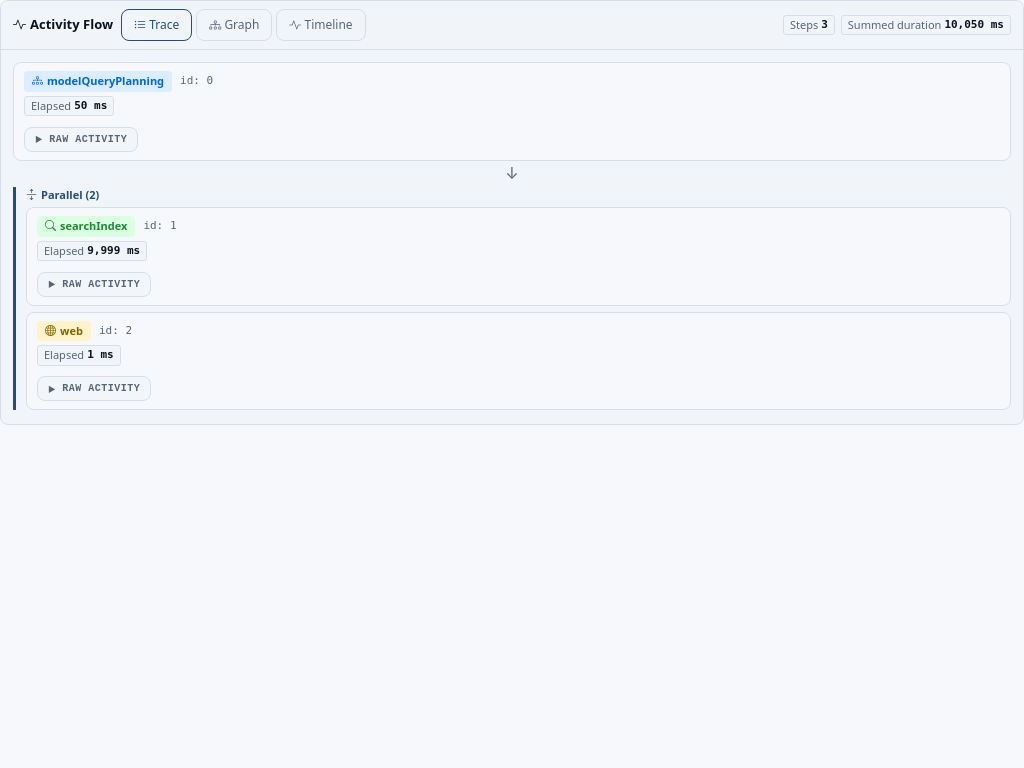
Scenario: AgenticActivityTrace › places Timeline after Trace and Graph and preserves proportional timing and recorded row order
The width and height of the screenshot is (1024, 768).
Click the button "Timeline". click: coordinates (321, 25)
box: [276,9,366,41]
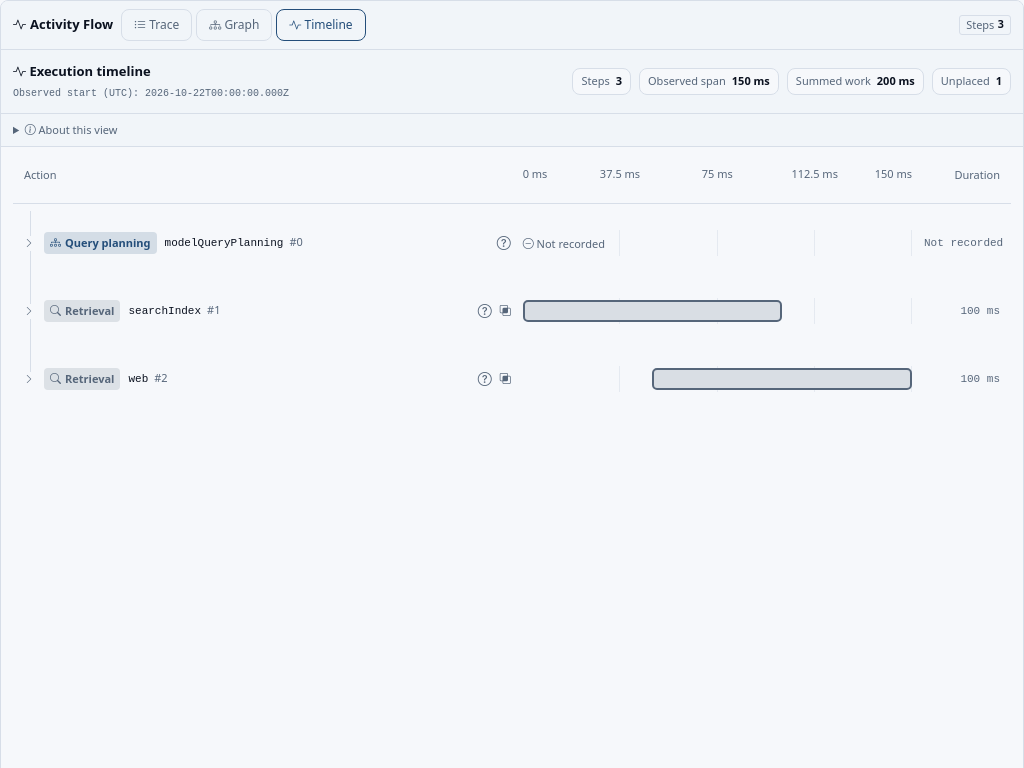
Click the button named "web #2 · startedAt:". click: coordinates (782, 379)
box: [652,368,912,390]
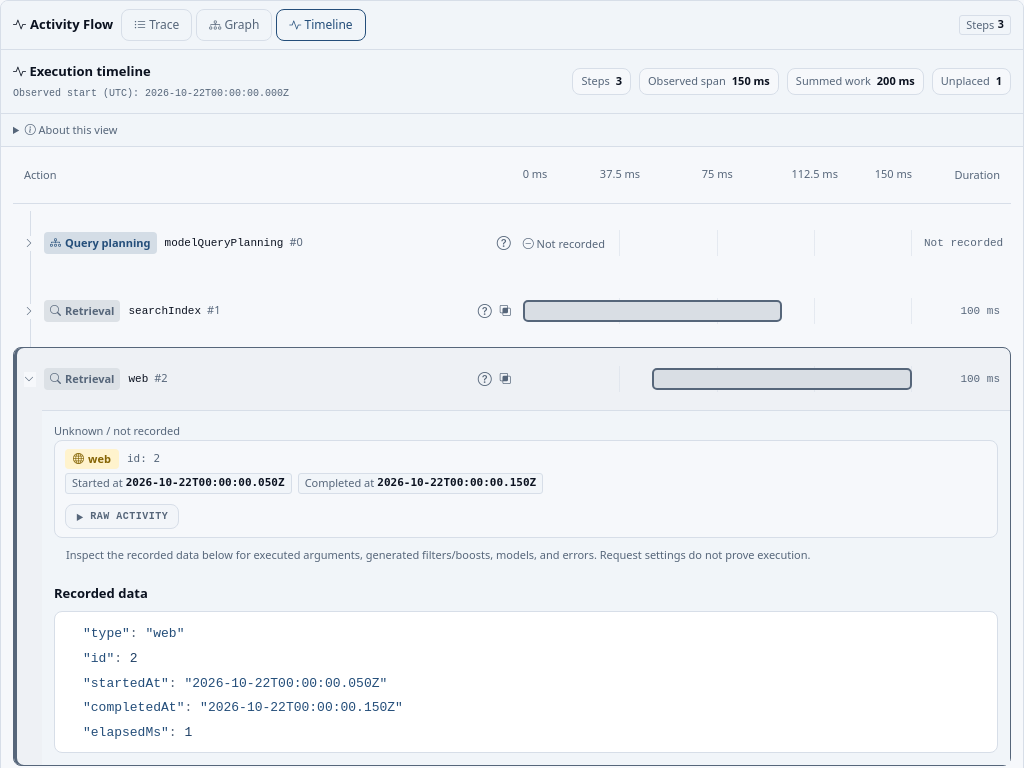
Result: the text "Unplaced" is shown at [941,73,990,88]
Result: the button with aria-label "Hide details: web #2" is expanded at [24,368,511,390]
Result: the element named "Node details" shows "web" at [88,450,111,466]
